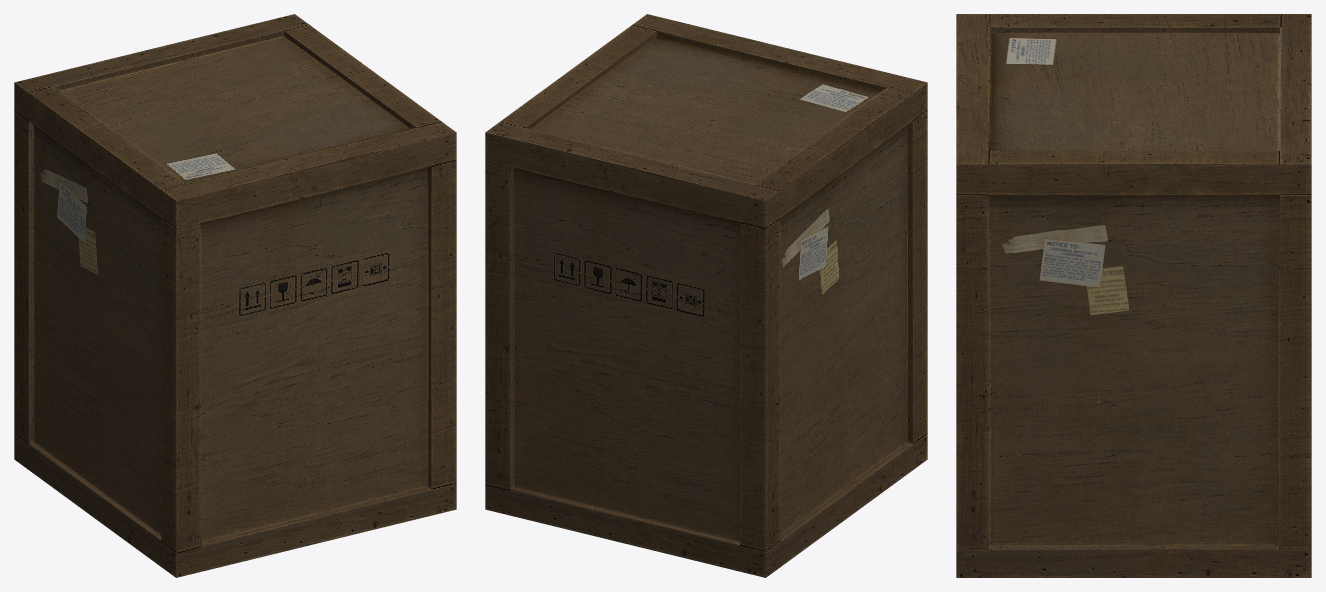
File: wooden_crate_hx_2_1.glb
3 views of the same model, side by side, from view 1: azimuth 30°, elevation 25°; view 2: azimuth 150°, elevation 25°; view 3: azimuth 270°, elevation 25° (orthographic). The views are drawn at different scales.
Parts seen in each view (by area): view 1: wooden_crate_hx_2_1; view 2: wooden_crate_hx_2_1; view 3: wooden_crate_hx_2_1.
Part boxes in pixels (left/top/right/bottom): wooden_crate_hx_2_1: left=14, top=14, right=456, bottom=577; wooden_crate_hx_2_1: left=485, top=14, right=927, bottom=577; wooden_crate_hx_2_1: left=956, top=14, right=1311, bottom=577.
Size of the model in its own units: 1.4 by 1.8 by 1.4.
1 material, 1 textured.
